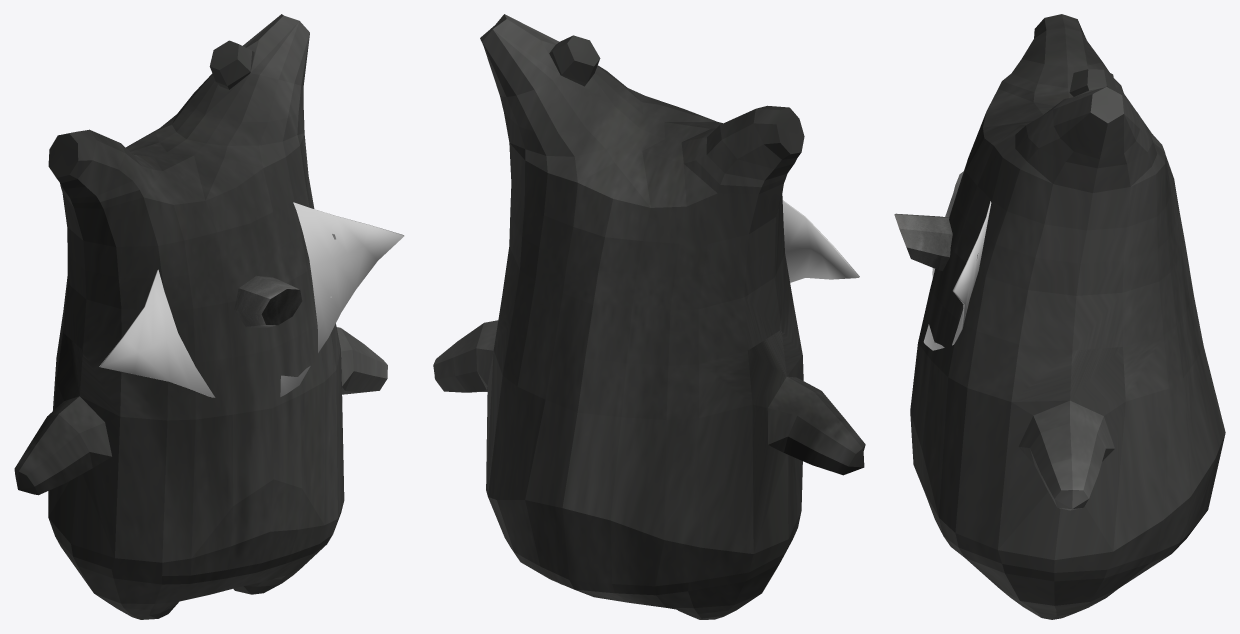
The model's file is frame_0011.obj.
3 renders of one model, left to right at view 1: azimuth 30°, elevation 25°; view 2: azimuth 150°, elevation 25°; view 3: azimuth 270°, elevation 25°, orthographic. The views are drawn at different scales.
Visible parts, largest first — view 1: korok, leaf, nose; view 2: korok, leaf; view 3: korok, nose, leaf.
Part boxes in pixels (x1=…): korok: x1=14, y1=14, x2=387, y2=619; leaf: x1=99, y1=202, x2=404, y2=397; nose: x1=234, y1=275, x2=302, y2=328; korok: x1=433, y1=14, x2=865, y2=619; leaf: x1=782, y1=200, x2=859, y2=282; korok: x1=910, y1=14, x2=1225, y2=619; nose: x1=894, y1=213, x2=952, y2=270; leaf: x1=923, y1=171, x2=991, y2=350.
Size of the model in its own units: 1.69 by 2.27 by 1.22.
